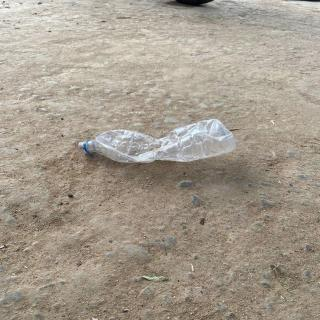Plastic-bottle: (76, 118, 240, 169)
